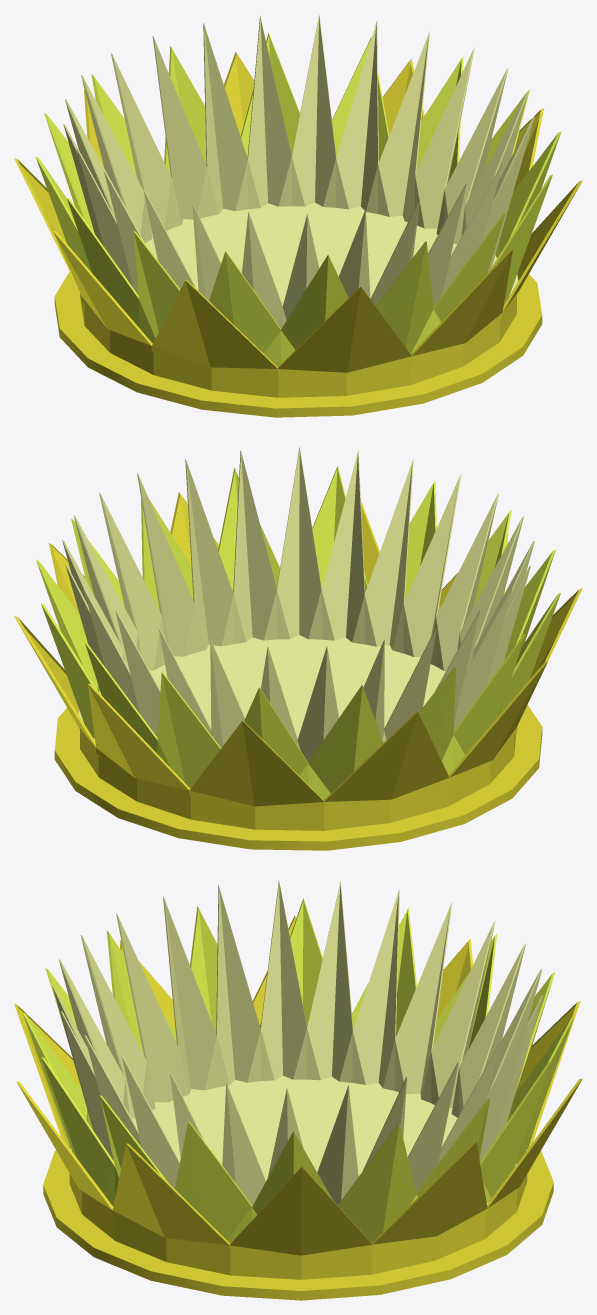
Rendered from portal_000005.obj.
3 renders of one model, top to bottom at view 1: azimuth 30°, elevation 25°; view 2: azimuth 150°, elevation 25°; view 3: azimuth 270°, elevation 25°, orthographic. The views are drawn at different scales.
Parts seen in each view (by area): view 1: Cylinder.001, pCylinder1, Cylinder; view 2: Cylinder.001, pCylinder1, Cylinder; view 3: Cylinder.001, pCylinder1, Cylinder.
Part boxes in pixels (x1,y1,x2,y2): Cylinder.001: (63,15,534,328); pCylinder1: (14,52,582,417); Cylinder: (35,33,561,367); Cylinder.001: (62,447,534,762); pCylinder1: (14,492,582,850); Cylinder: (36,466,560,799); Cylinder.001: (52,880,543,1205); pCylinder1: (14,915,582,1300); Cylinder: (22,898,574,1243).
Bounding box in the file's own units: 7.45 × 2.9 × 7.11.
Materials: 3 (3 with a texture image).
